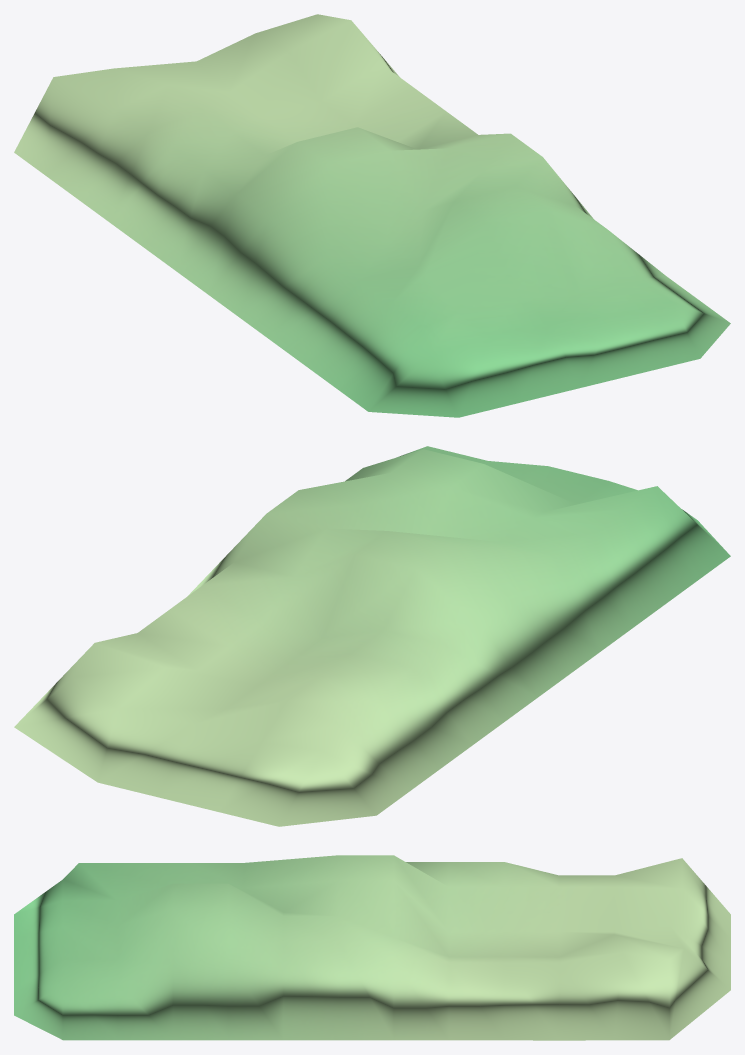
File: Test_coline2.fbx
The picture shows the model from 3 angles, top to bottom: view 1: azimuth 30°, elevation 25°; view 2: azimuth 150°, elevation 25°; view 3: azimuth 270°, elevation 25°; orthographic projection. The views are drawn at different scales.
Parts seen in each view (by area): view 1: Test_coline_2; view 2: Test_coline_2; view 3: Test_coline_2.
Boxes of the visible parts, <box> form: Test_coline_2: <box>14,14,730,417</box>; Test_coline_2: <box>14,446,730,826</box>; Test_coline_2: <box>14,855,730,1040</box>.
Bounding box in the file's own units: 10 × 2.62 × 20.
